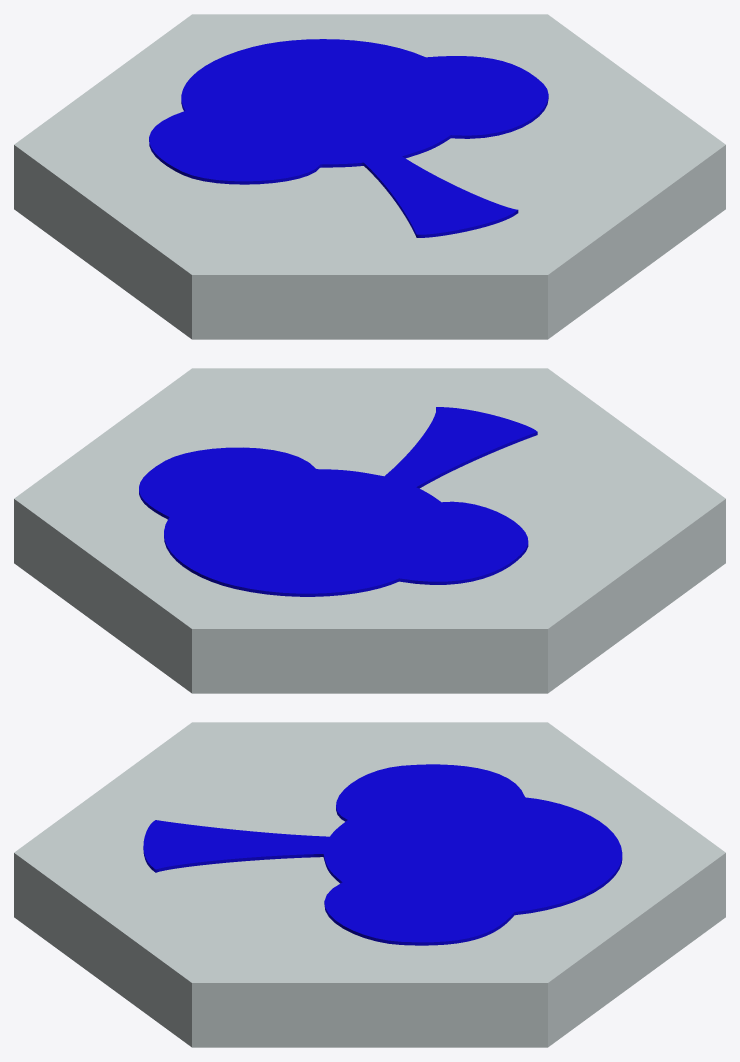
Rendered from nature-temple.fbx.
3 views of the same model, one above another, from view 1: azimuth 30°, elevation 25°; view 2: azimuth 150°, elevation 25°; view 3: azimuth 270°, elevation 25° (orthographic).
Parts seen in each view (by area): view 1: Temple|Cylinder.002|Dupli|1, Temple|BezierCurve.002|Dupli|; view 2: Temple|Cylinder.002|Dupli|1, Temple|BezierCurve.002|Dupli|; view 3: Temple|Cylinder.002|Dupli|1, Temple|BezierCurve.002|Dupli|.
Boxes of the visible parts, bbox=[...] form: Temple|Cylinder.002|Dupli|1: bbox=[14, 14, 725, 339]; Temple|BezierCurve.002|Dupli|: bbox=[149, 39, 548, 237]; Temple|Cylinder.002|Dupli|1: bbox=[14, 368, 725, 693]; Temple|BezierCurve.002|Dupli|: bbox=[139, 407, 537, 596]; Temple|Cylinder.002|Dupli|1: bbox=[14, 722, 725, 1047]; Temple|BezierCurve.002|Dupli|: bbox=[143, 764, 622, 945].
Size of the model in its own units: 173 by 21 by 200.
